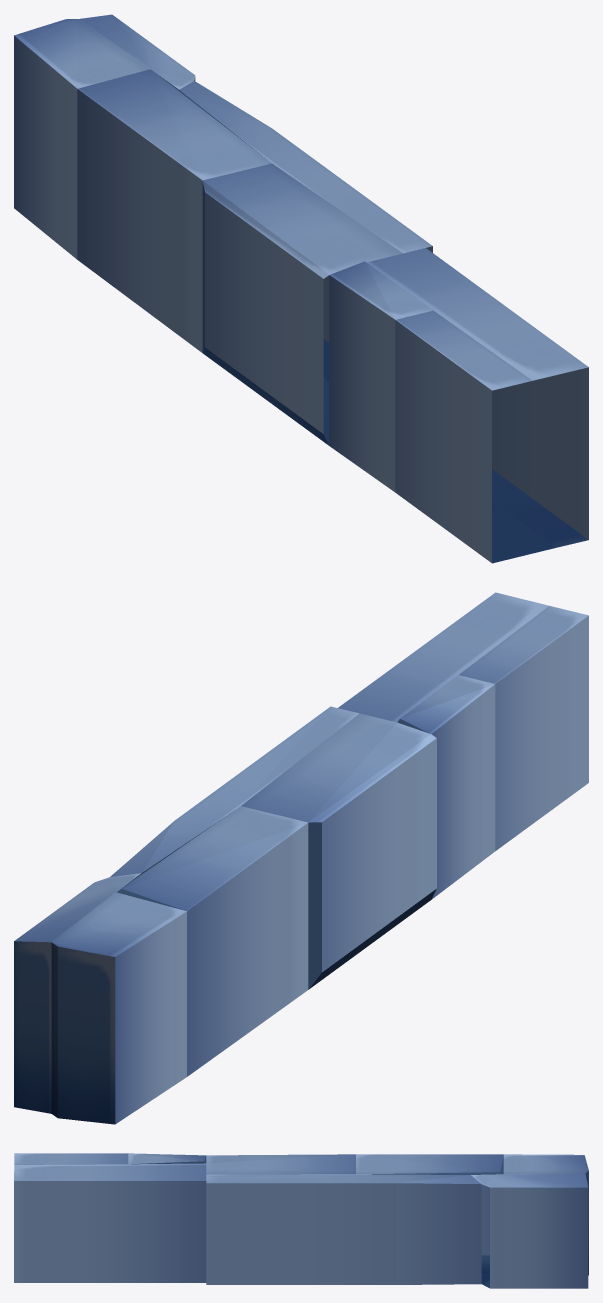
3 renders of one model, top to bottom at view 1: azimuth 30°, elevation 25°; view 2: azimuth 150°, elevation 25°; view 3: azimuth 270°, elevation 25°, orthographic. The views are drawn at different scales.
Parts seen in each view (by area): view 1: library_plateaumodel_bridge_x1_y1_z4; view 2: library_plateaumodel_bridge_x1_y1_z4; view 3: library_plateaumodel_bridge_x1_y1_z4.
Part boxes in pixels (x1,y1,x2,y2): library_plateaumodel_bridge_x1_y1_z4: (14, 14, 588, 563); library_plateaumodel_bridge_x1_y1_z4: (14, 592, 588, 1124); library_plateaumodel_bridge_x1_y1_z4: (14, 1153, 588, 1288).
Size of the model in its own units: 2.64 by 4.04 by 19.78.
1 material, 1 textured.
